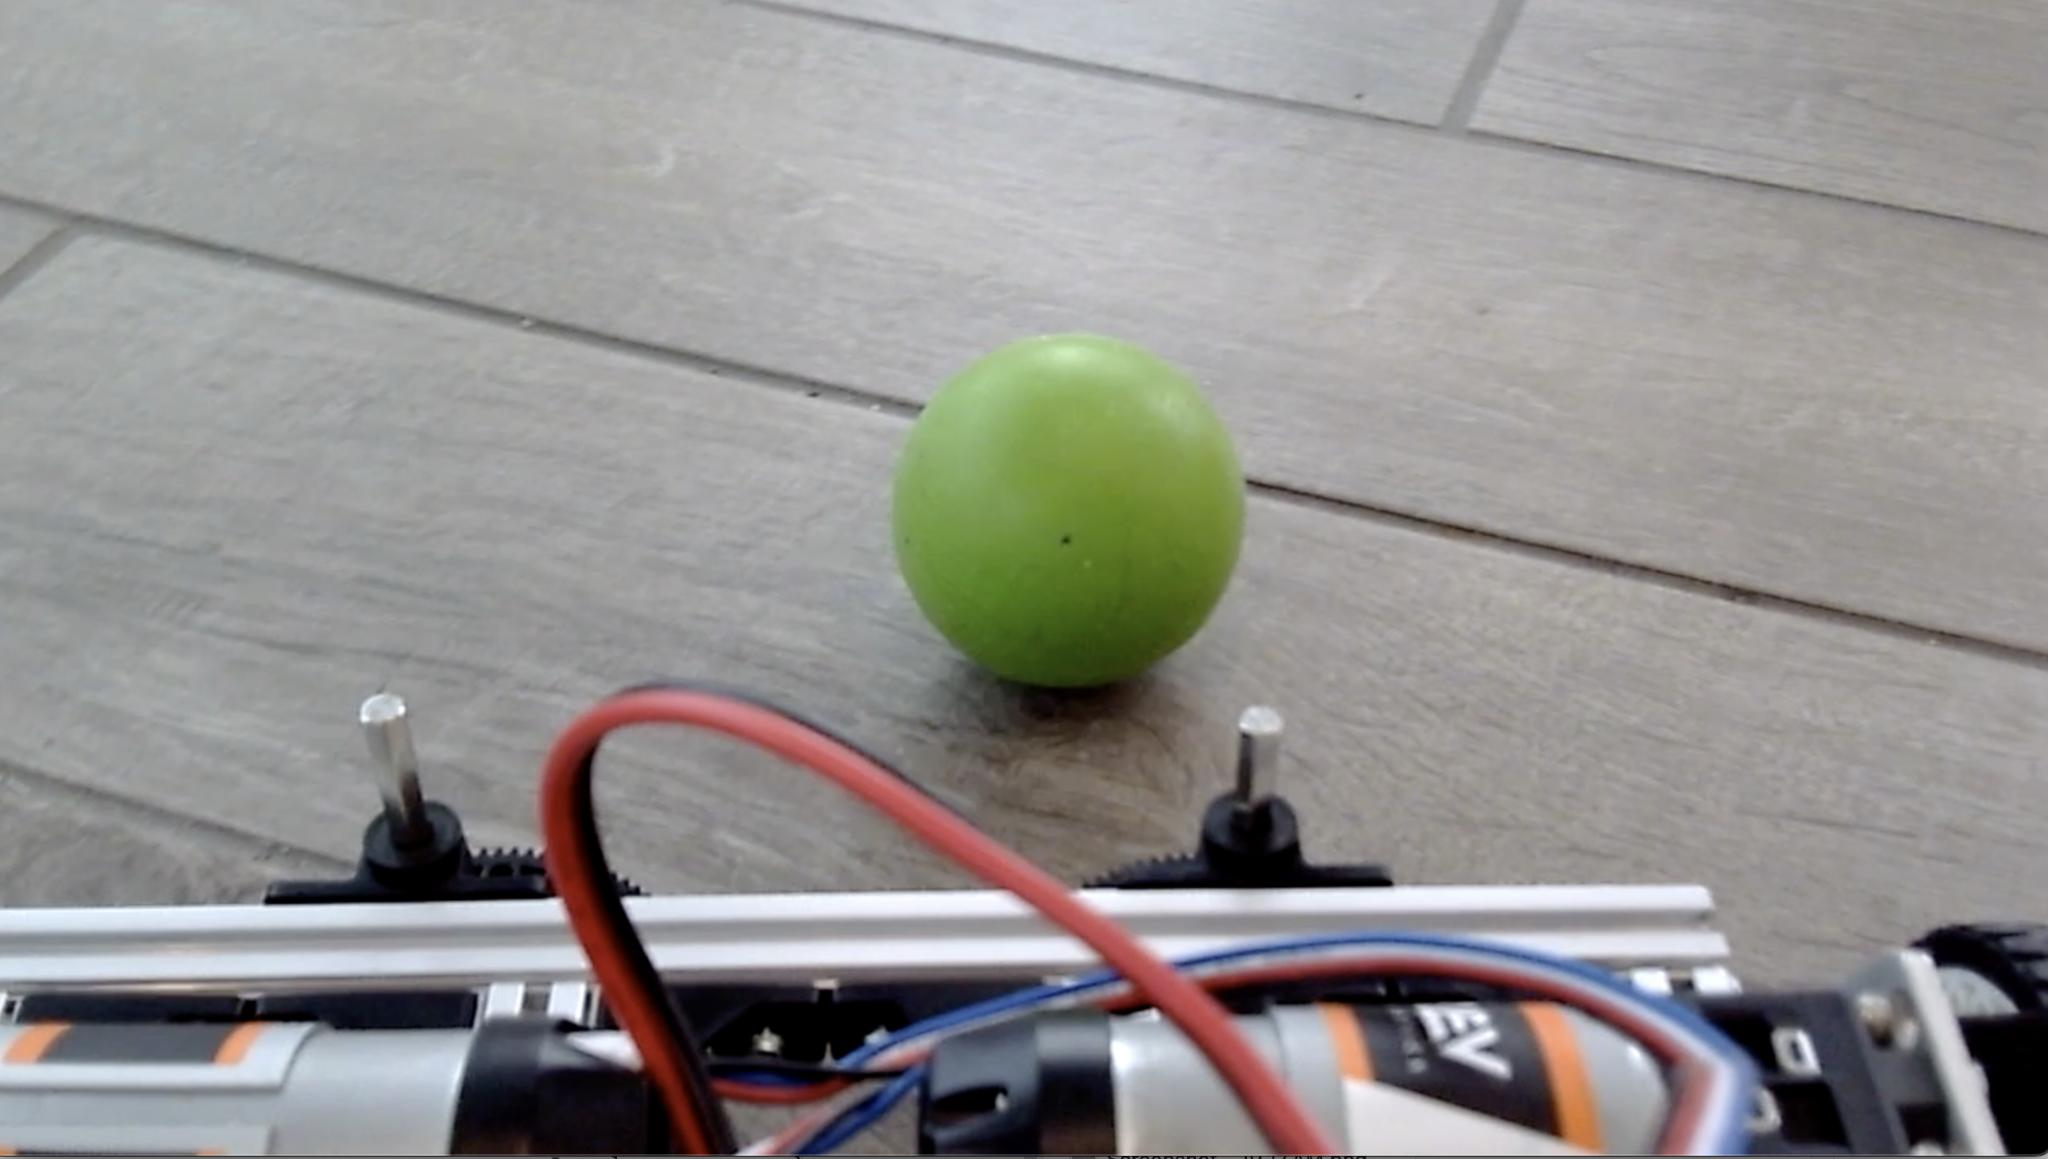greenball: (888, 328, 1248, 692)
